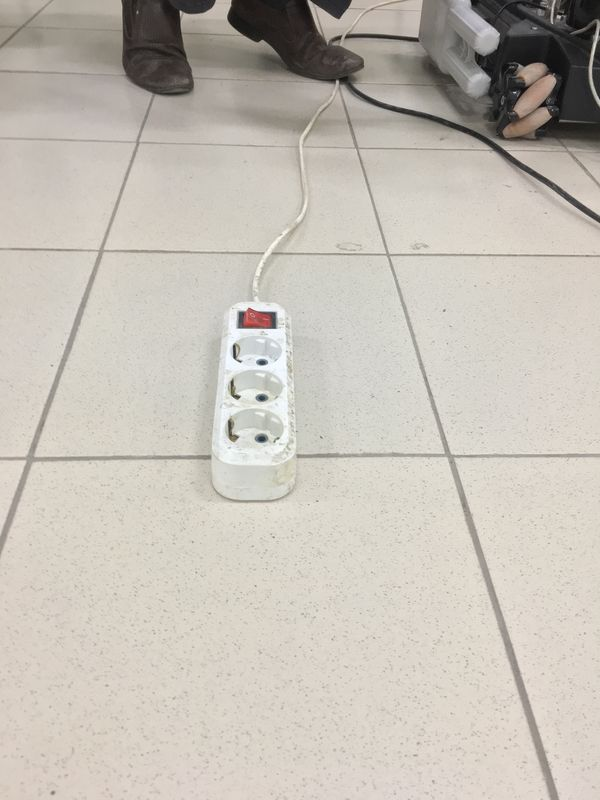socket: (198, 295, 315, 507)
